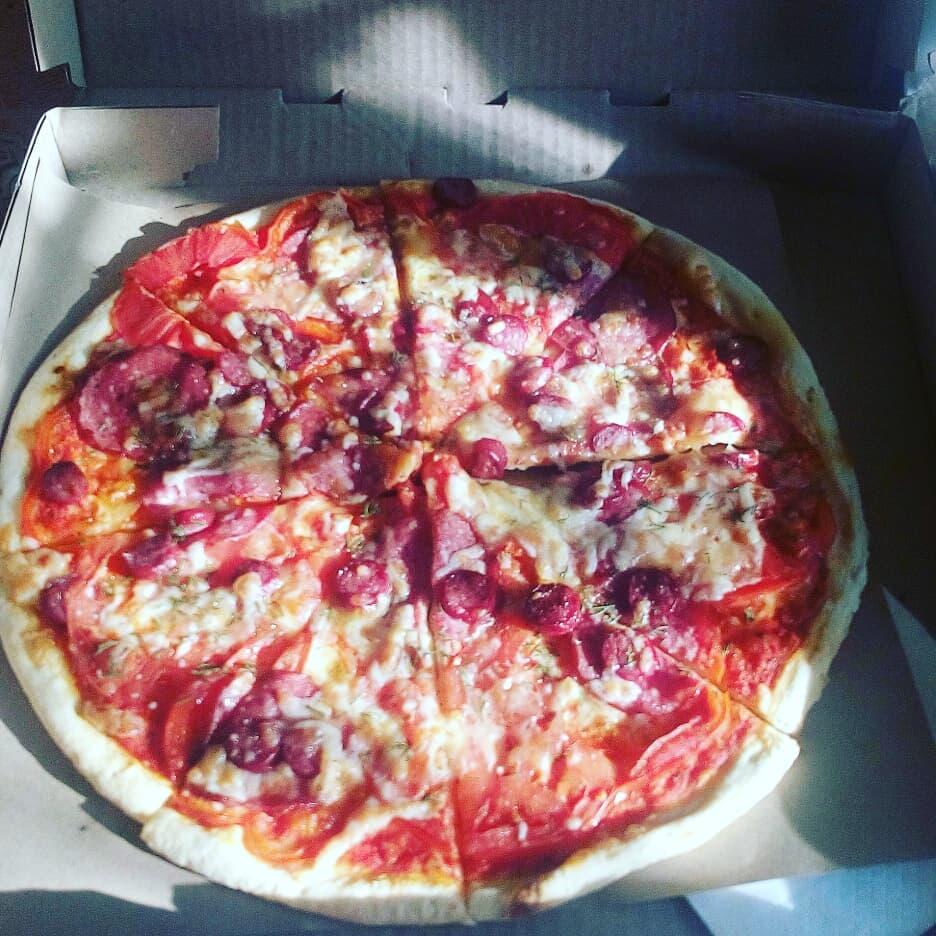Ham: (225, 672, 322, 776), (439, 567, 498, 622), (527, 582, 582, 637), (334, 558, 388, 608), (485, 314, 527, 354), (340, 284, 382, 317)
Pepperoni: (72, 339, 213, 469)
Peppers: (267, 188, 378, 249), (161, 669, 216, 775), (722, 562, 808, 606)
Pizza: (0, 177, 866, 927)
